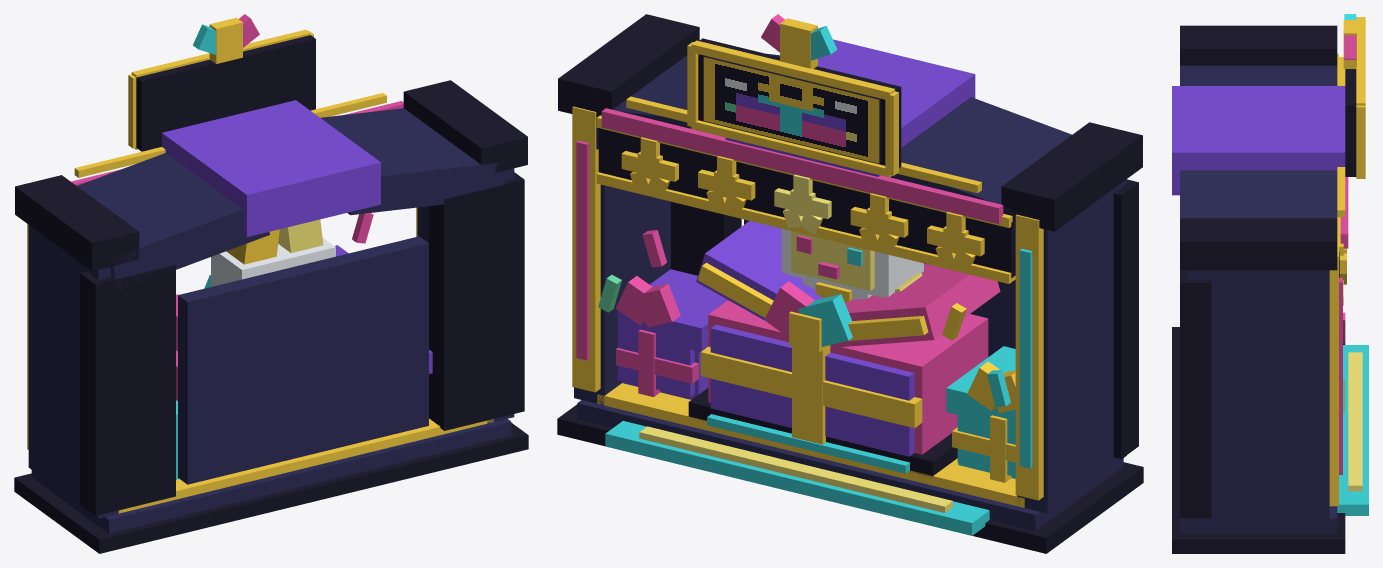
File: KLC_Future_RatingGiftStand.fbx
3 views of the same model, side by side, from view 1: azimuth 30°, elevation 25°; view 2: azimuth 150°, elevation 25°; view 3: azimuth 270°, elevation 25° (orthographic). The views are drawn at different scales.
Parts seen in each view (by area): view 1: RearCenterGlow, RearLeftWing, RearRightWing, CanopyCenter, Pillar_0, CanopyLeft, IconSignBack, Foundation_Dark, CanopyRight, Foundation_Navy, PillarCap_0, PillarCap_1 (+8 smaller); view 2: Pillar_0, IconSignFace, GiftBoxFront, RatingBar, CanopyLeft, PillarCap_0, GiftBox, CanopyGlow, PillarCap_1, Pillar_1, FrontStep, RearLeftWing (+45 smaller); view 3: Pillar_1, CanopyCenter, PillarCap_1, CanopyRight, RearRightWing, PillarCap_0, Foundation_Dark, CanopyLeft, FrontStep, PillarGold_1, FrontStepGold, Foundation_Navy (+8 smaller).
Boxes of the visible parts, x1=… form: RearCenterGlow: x1=178, y1=236, x2=428, y2=484; RearLeftWing: x1=80, y1=265, x2=175, y2=515; RearRightWing: x1=429, y1=172, x2=524, y2=430; CanopyCenter: x1=162, y1=100, x2=380, y2=236; Pillar_0: x1=28, y1=225, x2=122, y2=518; CanopyLeft: x1=77, y1=153, x2=269, y2=290; IconSignBack: x1=136, y1=35, x2=315, y2=151; Foundation_Dark: x1=14, y1=423, x2=528, y2=553; CanopyRight: x1=320, y1=108, x2=506, y2=215; Foundation_Navy: x1=31, y1=419, x2=511, y2=533; PillarCap_0: x1=15, y1=175, x2=139, y2=271; PillarCap_1: x1=403, y1=80, x2=527, y2=172; Pillar_0: x1=1017, y1=179, x2=1126, y2=513; IconSignFace: x1=703, y1=55, x2=880, y2=163; GiftBoxFront: x1=710, y1=324, x2=914, y2=456; RatingBar: x1=598, y1=128, x2=1015, y2=278; CanopyLeft: x1=890, y1=97, x2=1071, y2=250; PillarCap_0: x1=1001, y1=122, x2=1142, y2=231; GiftBox: x1=708, y1=300, x2=988, y2=454; CanopyGlow: x1=601, y1=108, x2=1003, y2=224; PillarCap_1: x1=558, y1=14, x2=699, y2=119; Pillar_1: x1=574, y1=184, x2=670, y2=405; FrontStep: x1=605, y1=421, x2=989, y2=535; RearLeftWing: x1=1113, y1=179, x2=1138, y2=458; Pillar_1: x1=1188, y1=270, x2=1329, y2=521; CanopyCenter: x1=1172, y1=86, x2=1345, y2=195; PillarCap_1: x1=1180, y1=218, x2=1337, y2=270; CanopyRight: x1=1180, y1=170, x2=1337, y2=272; RearRightWing: x1=1180, y1=273, x2=1211, y2=518; PillarCap_0: x1=1180, y1=25, x2=1337, y2=65; Foundation_Dark: x1=1172, y1=327, x2=1345, y2=553; CanopyLeft: x1=1180, y1=65, x2=1337, y2=85; FrontStep: x1=1337, y1=345, x2=1368, y2=515; PillarGold_1: x1=1329, y1=246, x2=1338, y2=506; FrontStepGold: x1=1348, y1=352, x2=1362, y2=491; Foundation_Navy: x1=1180, y1=506, x2=1337, y2=532.
Bounding box in the file's own units: 406 × 371 × 156.
Materials: 10 (10 with a texture image).
